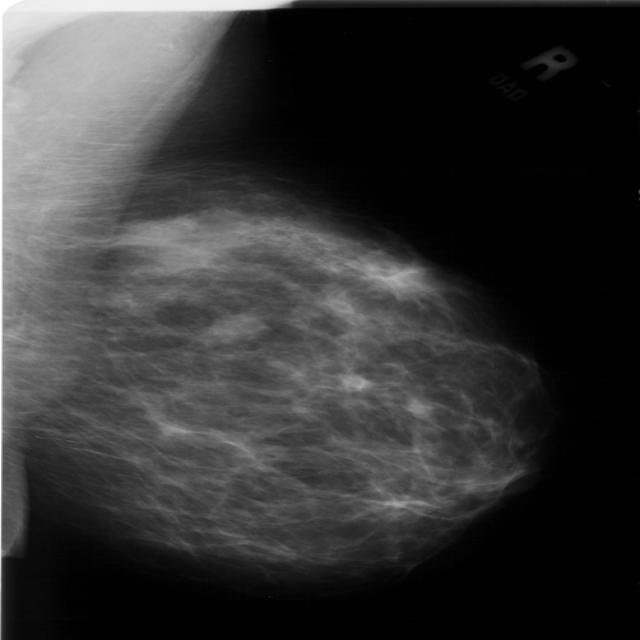tumour: (208, 311, 264, 341)
